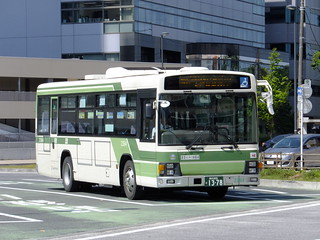bus: (33, 66, 259, 199)
car: (261, 133, 320, 170)
